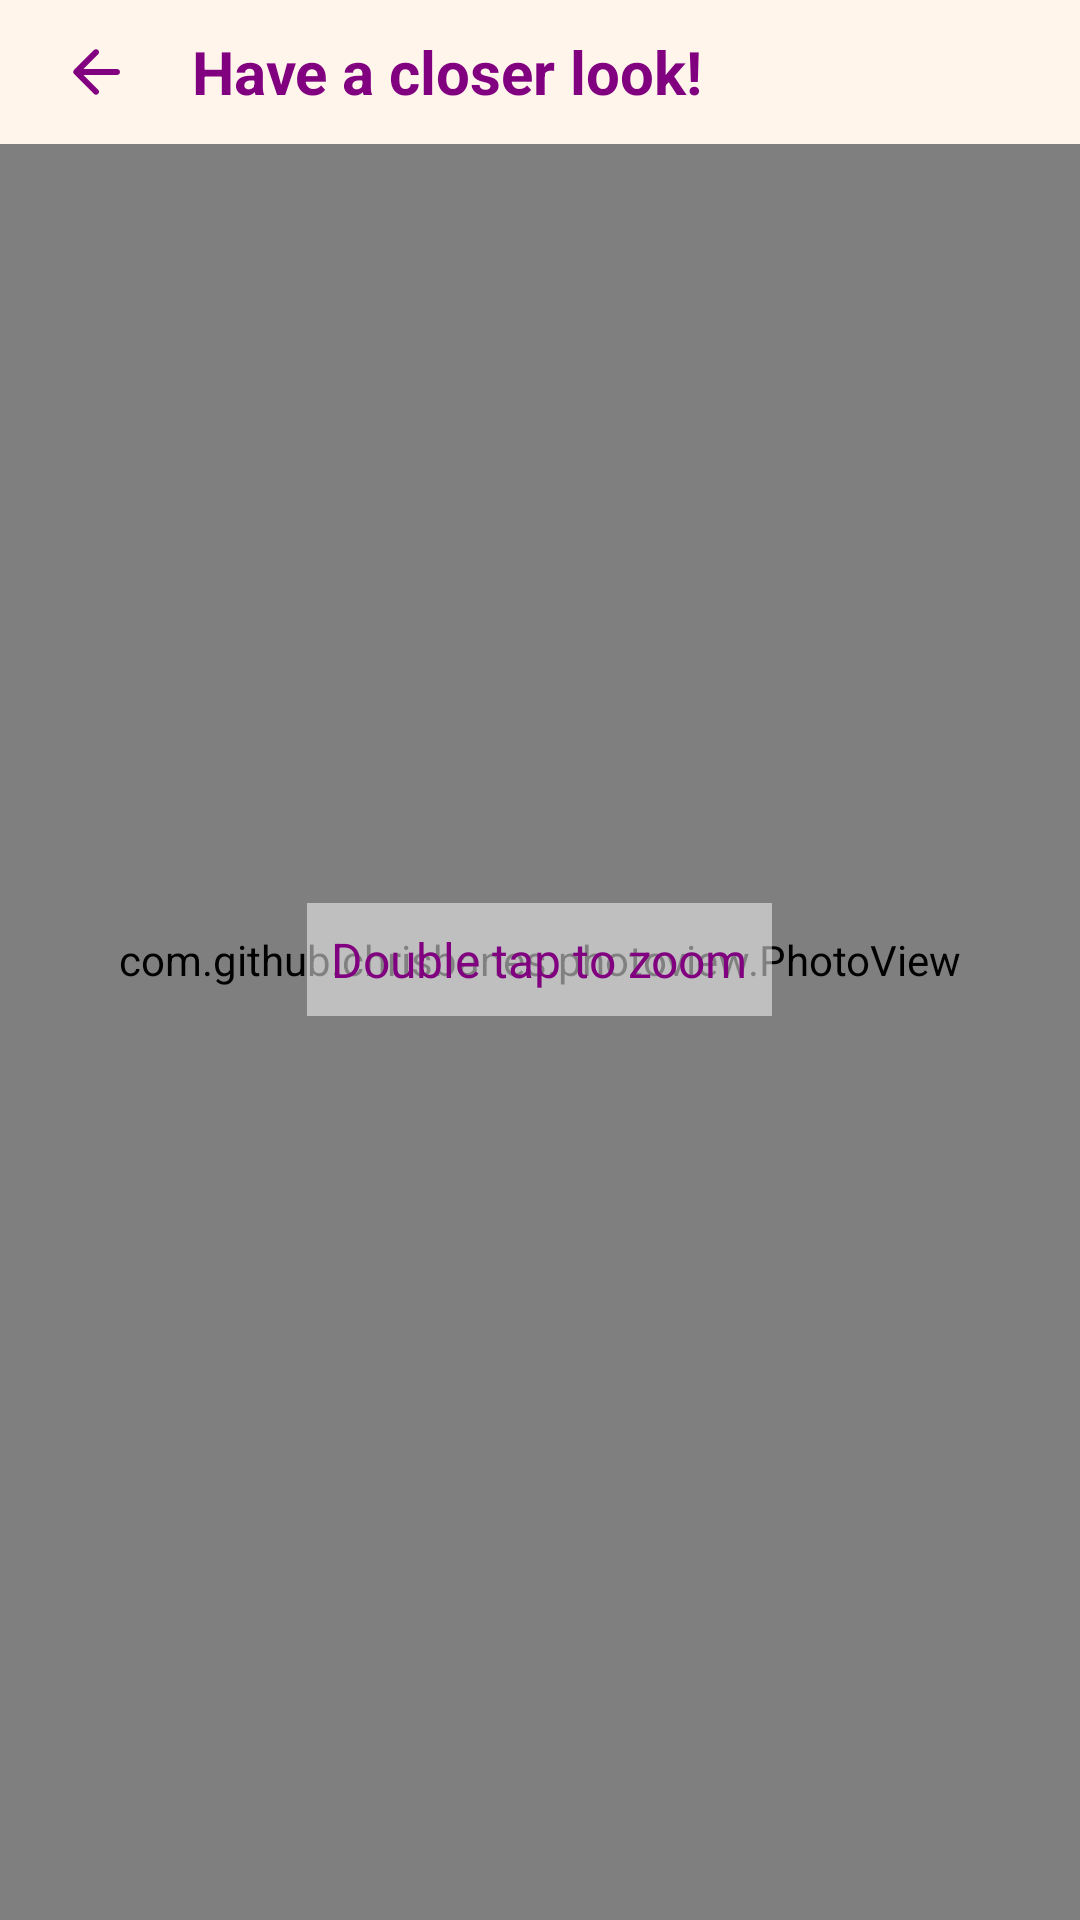

Where to tap for icons on this 1080 × 1920 app screen, as (x=x, y=y):
Back: (x=96, y=72)
